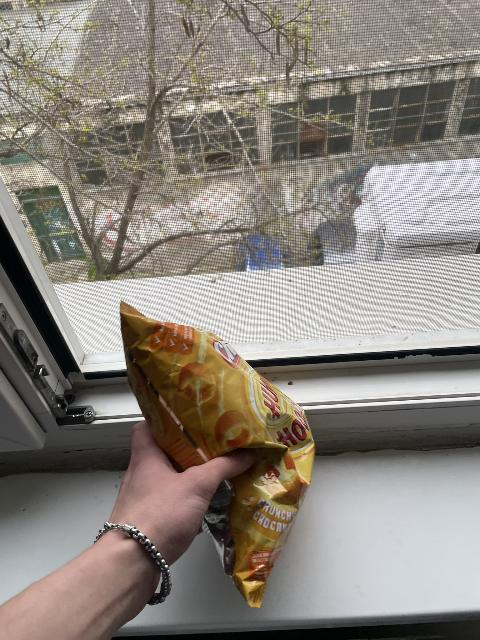Chio Hula Hoops Cheese 70g: (118, 307, 313, 609)
